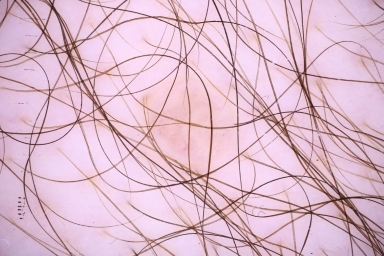melanoma: (155, 89, 216, 165)
